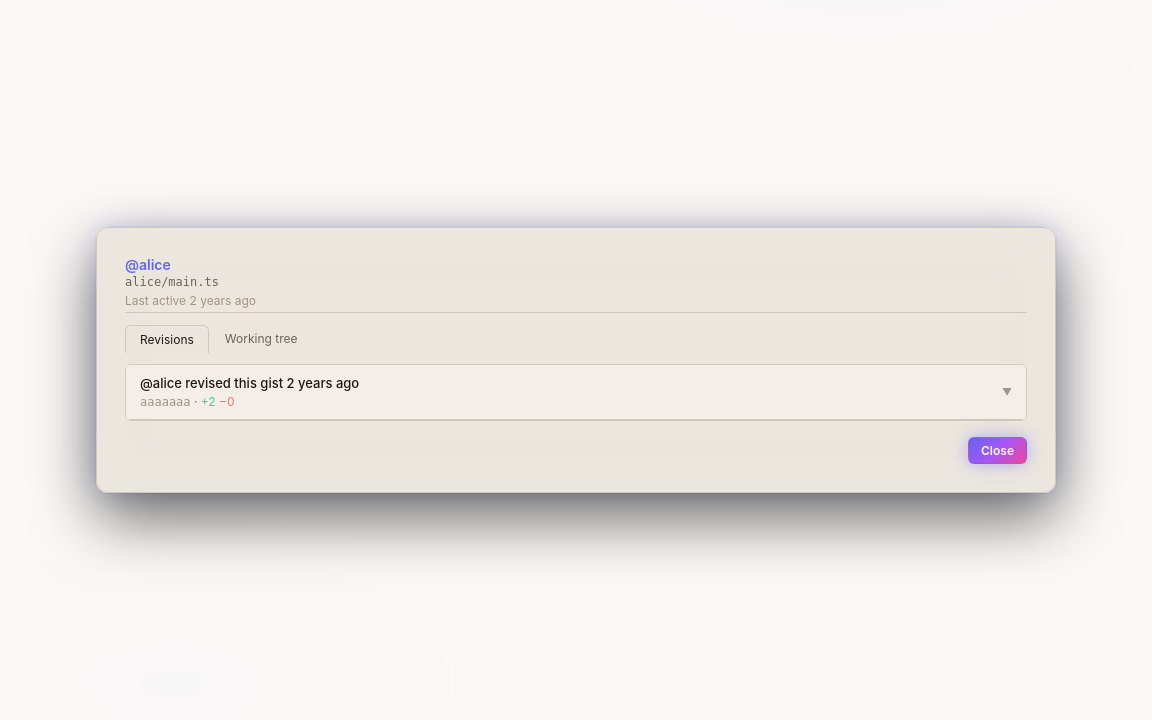
Scenario: DiffModal › shows the working-tree diff on the Working tree tab
What coordinates should you click on to do the following:
click the button "Working tree"
I would click on:
 (261, 338)
Its box is x1=211 y1=325 x2=312 y2=352.
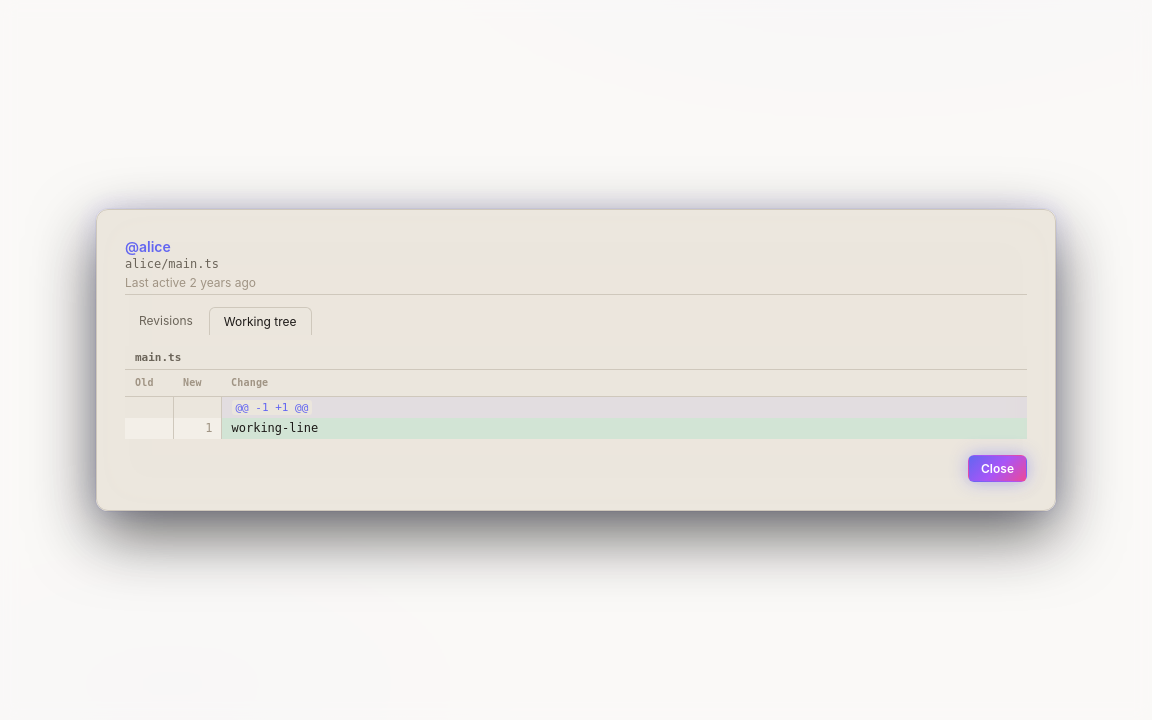
Result: the text "working-line" is shown at x1=232 y1=421 x2=318 y2=435
